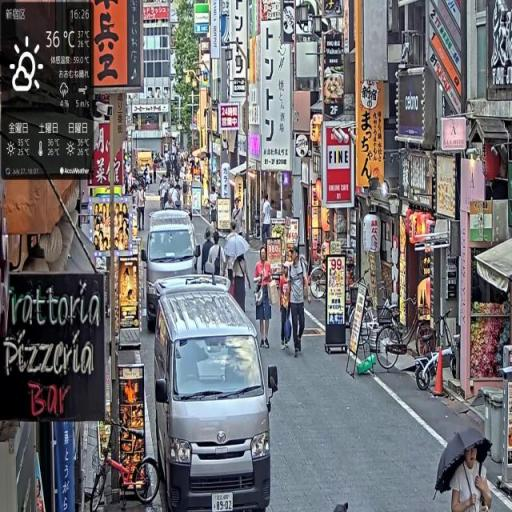person: (451, 448, 493, 512), (289, 247, 311, 358), (255, 247, 272, 349), (233, 256, 251, 313), (209, 232, 228, 277), (227, 221, 237, 284), (202, 229, 215, 275), (263, 194, 272, 247), (232, 198, 244, 236), (138, 185, 147, 232), (210, 187, 219, 232), (160, 177, 168, 211), (183, 177, 190, 211), (171, 184, 180, 209), (175, 184, 183, 211), (165, 193, 175, 211), (145, 167, 152, 189), (147, 164, 153, 186), (154, 161, 159, 184), (167, 161, 172, 180)
